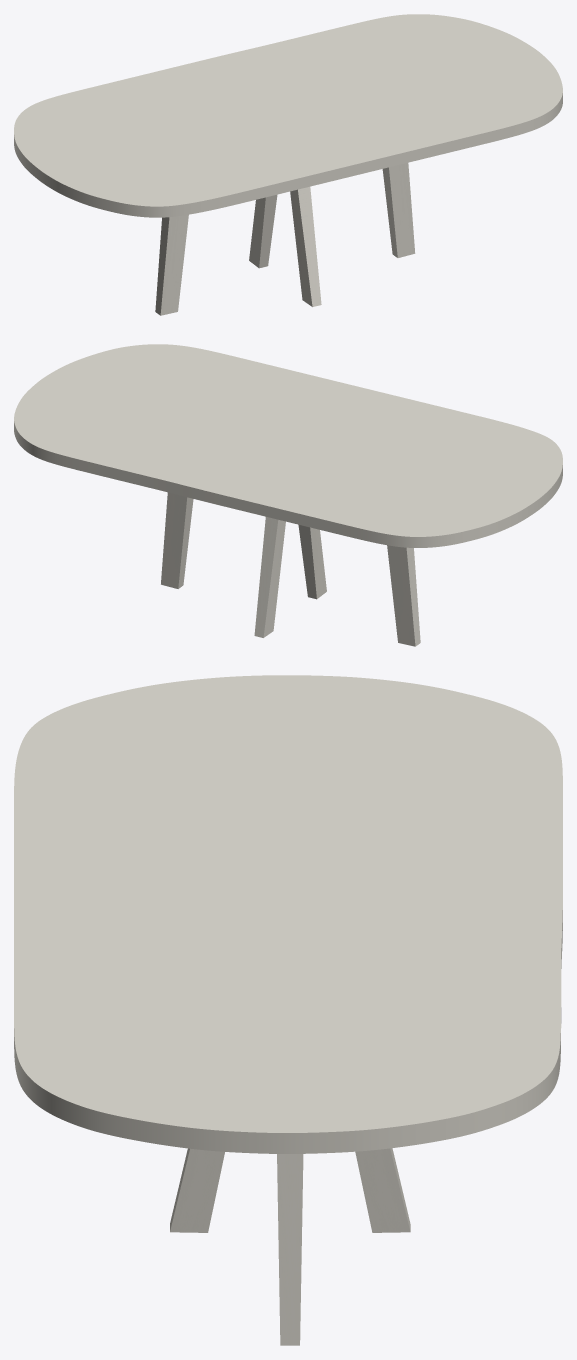
File: pale_oval_standard_searwalnut.glb
3 views of the same model, one above another, from view 1: azimuth 30°, elevation 25°; view 2: azimuth 150°, elevation 25°; view 3: azimuth 270°, elevation 25° (orthographic). The views are drawn at different scales.
Parts seen in each view (by area): view 1: standard_oval, searwalnut; view 2: standard_oval, searwalnut; view 3: standard_oval, searwalnut.
Part boxes in pixels (x1,y1,x2,y2): standard_oval: [14, 14, 562, 217]; searwalnut: [155, 163, 415, 315]; standard_oval: [14, 344, 562, 547]; searwalnut: [161, 492, 420, 646]; standard_oval: [14, 675, 562, 1153]; searwalnut: [170, 1148, 410, 1345].
Size of the model in its own units: 7.5 by 2.5 by 3.8.
Materials: 1 (1 with a texture image).
